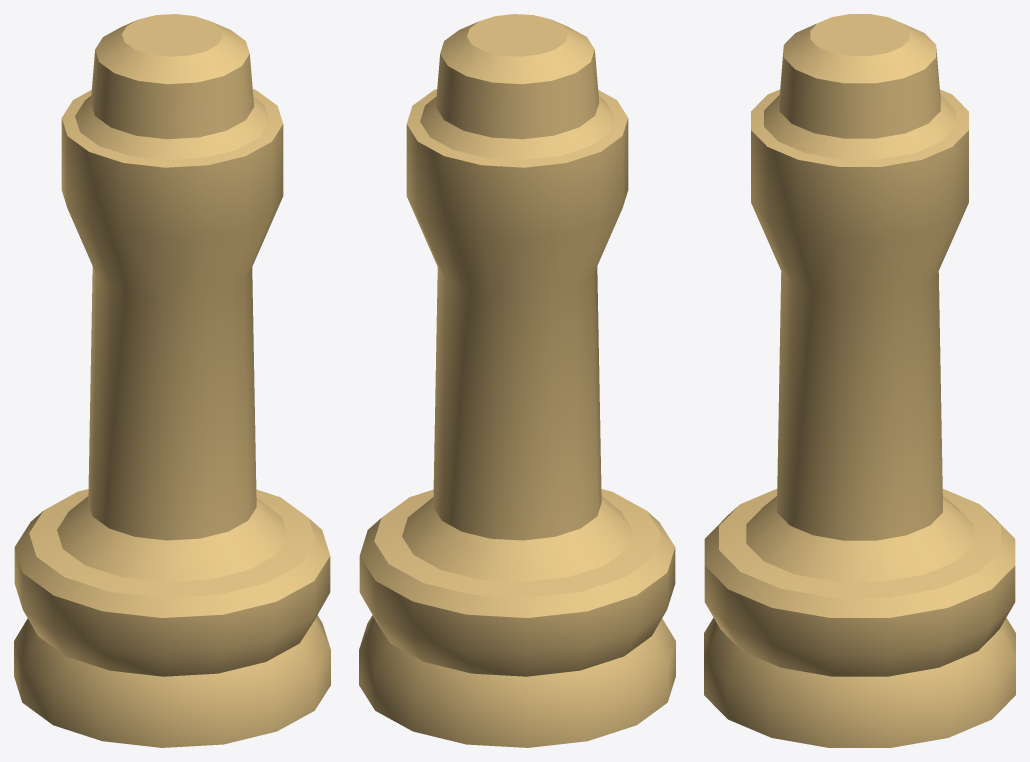
File: Bishop.fbx
The picture shows the model from 3 angles, left to right: view 1: azimuth 30°, elevation 25°; view 2: azimuth 150°, elevation 25°; view 3: azimuth 270°, elevation 25°; orthographic projection.
Visible parts, largest first — view 1: Bishop_Black; view 2: Bishop_Black; view 3: Bishop_Black.
Part boxes in pixels (x1,y1,x2,y2): Bishop_Black: (14, 14, 330, 747); Bishop_Black: (359, 14, 675, 747); Bishop_Black: (704, 14, 1015, 747).
Bounding box in the file's own units: 158 × 362 × 158.
